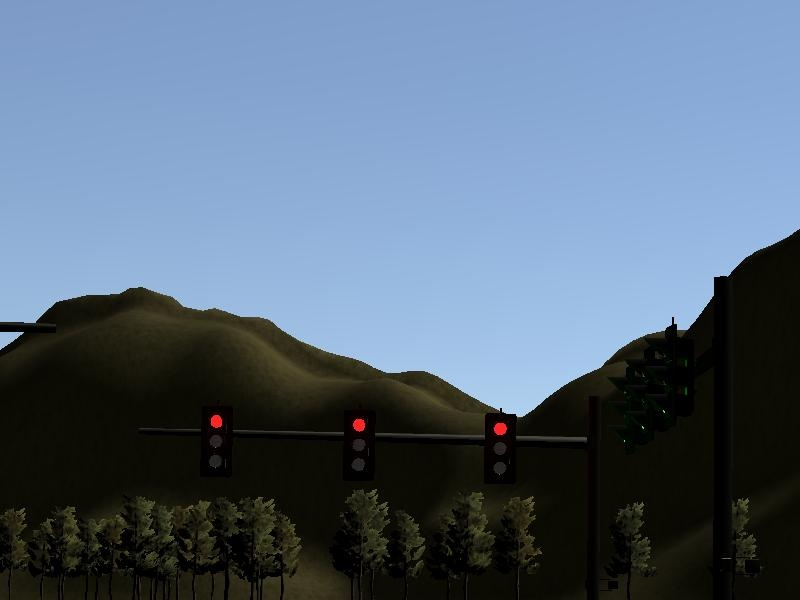RED: (343, 409, 375, 481), (484, 414, 516, 486), (200, 409, 230, 479)
